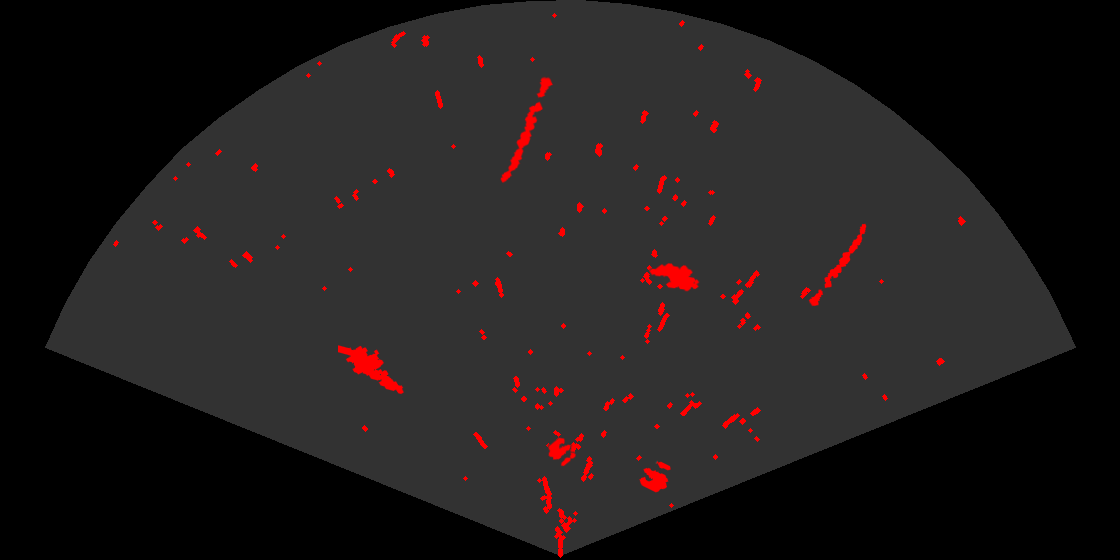AUV: (647, 262, 701, 293)
ball: (638, 460, 672, 494), (547, 436, 578, 468)
chain: (499, 75, 555, 185), (807, 222, 868, 308)
frogman: (338, 344, 405, 396)
